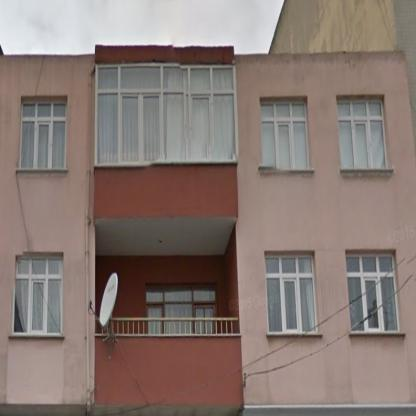door: (195, 306, 216, 334)
window: (95, 64, 235, 163), (346, 255, 398, 331), (266, 255, 316, 334), (13, 258, 62, 332), (336, 100, 387, 168), (148, 286, 216, 334), (18, 102, 66, 168), (260, 102, 308, 167)
